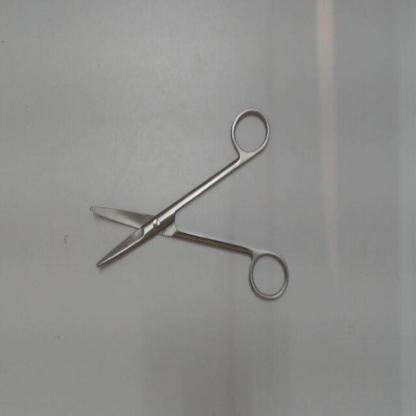Curved Mayo Scissors: (80, 100, 294, 309)
